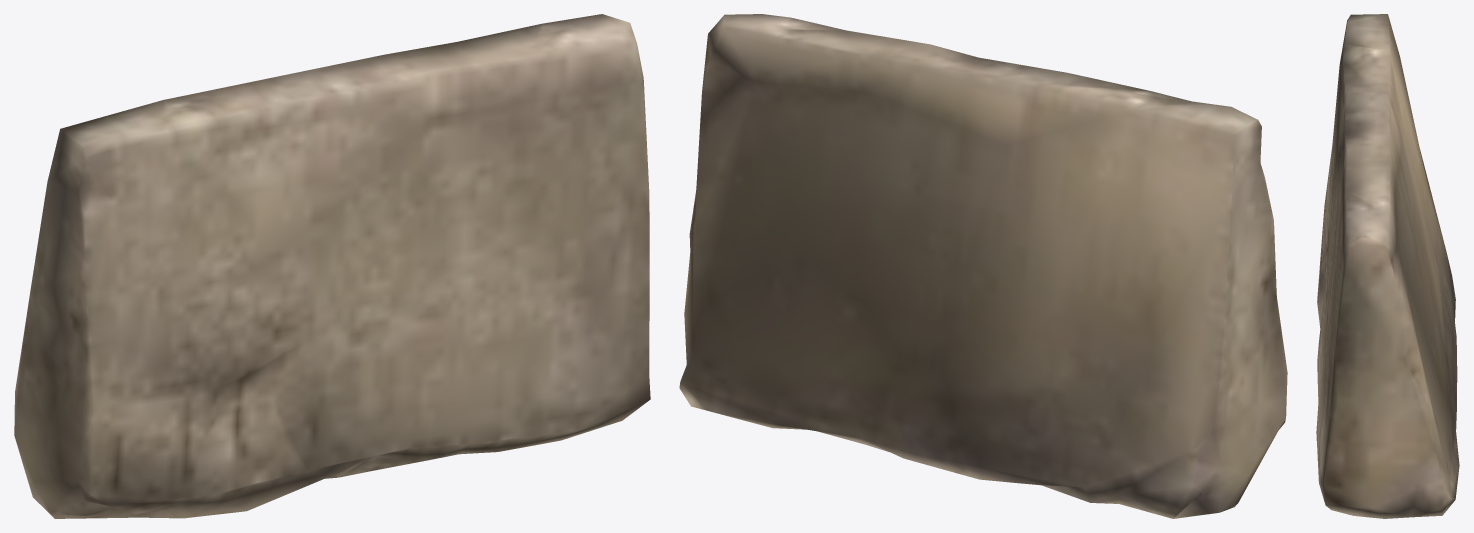
File: separateur_beton_bas_lod2.glb
The picture shows the model from 3 angles, left to right: view 1: azimuth 30°, elevation 25°; view 2: azimuth 150°, elevation 25°; view 3: azimuth 270°, elevation 25°; orthographic projection. The views are drawn at different scales.
Visible parts, largest first — view 1: concrete_road_barrier_02; view 2: concrete_road_barrier_02; view 3: concrete_road_barrier_02.
Boxes of the visible parts, left/top/right/bottom form: concrete_road_barrier_02: left=14, top=14, right=650, bottom=518; concrete_road_barrier_02: left=679, top=14, right=1287, bottom=518; concrete_road_barrier_02: left=1316, top=14, right=1459, bottom=518.
Size of the model in its own units: 1.56 by 1.02 by 0.437.
Materials: 1 (1 with a texture image).
